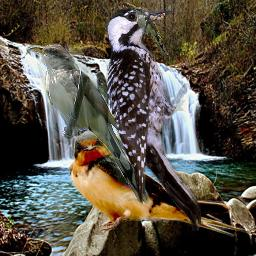Cuckoo: (27, 43, 149, 204), (131, 7, 168, 55)
Swallow: (67, 130, 251, 243)
Woodpecker: (104, 7, 201, 231)
